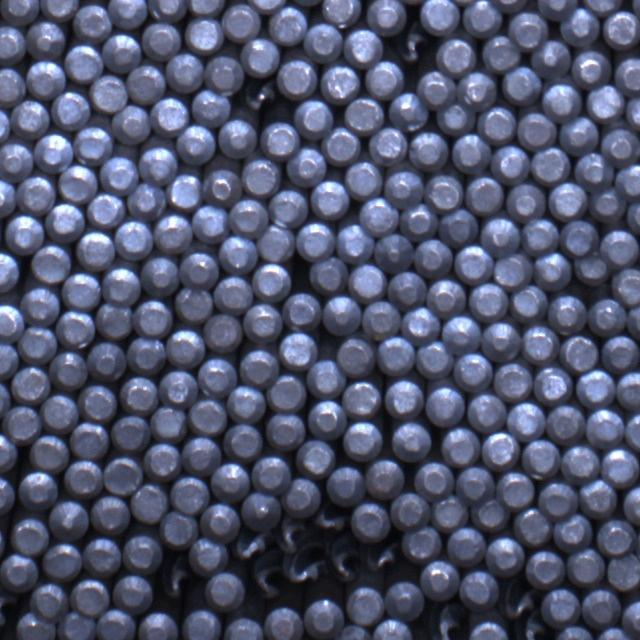tool: (582, 586, 622, 628), (507, 182, 548, 222), (342, 421, 382, 462), (33, 130, 72, 172), (304, 596, 343, 638), (410, 130, 450, 170), (126, 65, 166, 105), (508, 400, 548, 440), (228, 197, 268, 237), (482, 321, 522, 361), (427, 384, 467, 424), (296, 220, 336, 260), (548, 294, 588, 334), (524, 548, 564, 588), (540, 586, 580, 626), (278, 58, 318, 98), (542, 82, 582, 122), (26, 58, 66, 98), (442, 427, 482, 467), (5, 214, 45, 254), (490, 145, 530, 185), (204, 54, 244, 94), (349, 501, 389, 541), (138, 146, 178, 186), (150, 95, 190, 135), (74, 124, 114, 164), (295, 98, 335, 138), (122, 534, 162, 574), (446, 527, 486, 567), (218, 118, 258, 158), (267, 188, 307, 228), (459, 570, 499, 610), (393, 422, 433, 462), (30, 244, 70, 284), (322, 62, 362, 102), (428, 278, 468, 318), (310, 178, 350, 218), (384, 167, 424, 207), (182, 436, 222, 476), (480, 216, 520, 256), (112, 574, 152, 614), (25, 20, 65, 60), (90, 496, 130, 536), (252, 453, 292, 493), (285, 147, 325, 187), (386, 578, 426, 618), (242, 302, 282, 342), (76, 230, 115, 270), (115, 220, 154, 260), (11, 99, 50, 139), (52, 90, 91, 130), (324, 294, 363, 334), (344, 27, 384, 66), (420, 560, 459, 600), (223, 3, 262, 43), (585, 407, 624, 447), (559, 117, 599, 156), (442, 314, 482, 353), (17, 174, 56, 214), (268, 7, 308, 46), (580, 478, 619, 518), (451, 134, 490, 174), (103, 456, 142, 496), (547, 404, 586, 444), (254, 262, 293, 302), (454, 245, 493, 285), (112, 105, 152, 144), (548, 181, 588, 220), (437, 36, 477, 75), (577, 368, 617, 407), (374, 232, 414, 271), (166, 328, 205, 368), (390, 493, 430, 532), (46, 200, 85, 240), (212, 462, 251, 502), (21, 286, 60, 326), (51, 500, 90, 540), (388, 92, 428, 131), (328, 465, 366, 506), (241, 157, 280, 196), (469, 393, 508, 432), (197, 356, 236, 395), (568, 547, 607, 586), (261, 120, 300, 159), (213, 275, 252, 314), (170, 476, 210, 514), (58, 164, 98, 202), (360, 196, 400, 234), (102, 34, 140, 74), (165, 52, 203, 92), (470, 282, 510, 320), (366, 459, 404, 499), (478, 105, 518, 143), (205, 570, 245, 608), (241, 38, 279, 78), (504, 66, 544, 104), (601, 446, 639, 486), (509, 10, 549, 48), (70, 578, 110, 616), (344, 96, 384, 134), (378, 335, 416, 375), (84, 536, 122, 576), (336, 223, 374, 263), (154, 213, 192, 253), (88, 341, 126, 381), (305, 22, 343, 62), (414, 239, 452, 279), (486, 536, 524, 576), (522, 438, 560, 478), (482, 430, 520, 470), (44, 542, 84, 580), (522, 325, 560, 365), (538, 479, 578, 517), (560, 8, 600, 46), (365, 60, 405, 98), (456, 350, 494, 390), (517, 112, 557, 150), (130, 482, 168, 522), (384, 379, 422, 419), (308, 399, 346, 439), (560, 444, 600, 482), (572, 51, 612, 89), (440, 207, 480, 245), (220, 234, 258, 274), (416, 460, 456, 498), (178, 124, 216, 164), (459, 70, 499, 108), (178, 251, 218, 289), (141, 256, 179, 296), (284, 478, 322, 518), (575, 152, 615, 190), (126, 183, 166, 221), (336, 337, 376, 375), (266, 374, 306, 412), (530, 39, 570, 77), (11, 366, 50, 404), (496, 362, 534, 401), (192, 203, 230, 242), (467, 174, 505, 213), (521, 218, 560, 256), (100, 156, 138, 195), (514, 507, 553, 545), (536, 363, 574, 402), (191, 89, 230, 127), (101, 266, 140, 304), (346, 584, 384, 623), (369, 126, 408, 164), (42, 393, 80, 432), (239, 348, 278, 386), (20, 471, 58, 510), (201, 502, 239, 541), (586, 85, 624, 124), (307, 359, 345, 398), (0, 552, 37, 592), (598, 517, 638, 554), (266, 413, 306, 450), (402, 524, 442, 561), (202, 167, 242, 204), (362, 300, 400, 338), (426, 174, 464, 212), (590, 298, 628, 336), (496, 252, 534, 290), (561, 334, 599, 372), (134, 300, 172, 338), (2, 405, 40, 443), (498, 470, 536, 508), (64, 44, 102, 82), (184, 16, 222, 54), (534, 252, 572, 290), (159, 370, 197, 408), (350, 264, 388, 302), (432, 494, 470, 532), (402, 306, 440, 344), (554, 512, 592, 550), (120, 376, 158, 414), (57, 311, 95, 349), (64, 271, 102, 309), (75, 2, 113, 40), (419, 70, 457, 108), (601, 128, 639, 166), (282, 290, 320, 328), (90, 74, 128, 112), (296, 440, 334, 478), (602, 230, 640, 268), (324, 126, 362, 164), (32, 582, 70, 620), (228, 384, 266, 422), (345, 161, 383, 199), (18, 325, 56, 363), (204, 312, 242, 350), (128, 336, 166, 374), (143, 22, 182, 59), (530, 146, 570, 182), (463, 0, 503, 36), (12, 515, 49, 553), (402, 202, 439, 240), (603, 334, 640, 372), (278, 332, 316, 369), (64, 458, 102, 495), (391, 270, 428, 308), (416, 341, 454, 378), (176, 285, 213, 323), (258, 224, 296, 261), (70, 422, 108, 459), (510, 283, 548, 320), (95, 300, 132, 338), (456, 466, 495, 502), (52, 351, 88, 390), (263, 605, 303, 640), (604, 10, 640, 48), (30, 436, 68, 472), (482, 34, 520, 70), (160, 512, 198, 548), (343, 379, 381, 415), (560, 218, 598, 254), (188, 398, 226, 434), (145, 442, 181, 480), (111, 414, 149, 450), (312, 258, 350, 294), (245, 492, 283, 528), (190, 538, 228, 574), (588, 184, 626, 220), (420, 0, 460, 34), (368, 0, 408, 34), (80, 383, 116, 420), (0, 140, 33, 180), (166, 173, 202, 209), (88, 192, 124, 228), (226, 422, 262, 458), (152, 405, 188, 441), (472, 496, 510, 530), (574, 250, 612, 284), (438, 101, 477, 134), (183, 608, 223, 640), (94, 608, 133, 640), (136, 610, 177, 640), (608, 552, 640, 590), (16, 611, 56, 640), (55, 611, 94, 640), (108, 0, 148, 28), (612, 267, 640, 305), (322, 0, 363, 25), (0, 24, 26, 62), (0, 68, 24, 107), (1, 0, 40, 24), (0, 303, 24, 342), (617, 370, 640, 410), (616, 55, 640, 93), (226, 616, 264, 640), (372, 617, 411, 640), (616, 162, 640, 198), (0, 251, 20, 293), (470, 620, 510, 640), (536, 0, 577, 19), (621, 597, 640, 638), (147, 0, 186, 19), (41, 0, 81, 18), (0, 433, 18, 471), (624, 482, 640, 524), (0, 342, 18, 378), (0, 176, 16, 215), (555, 625, 596, 640), (582, 0, 624, 14), (595, 626, 636, 640), (625, 414, 640, 452), (187, 0, 225, 14), (488, 0, 532, 12), (1, 474, 14, 514), (626, 94, 640, 130), (246, 0, 288, 12), (627, 301, 640, 339), (628, 197, 640, 236), (0, 104, 10, 143), (0, 379, 10, 417), (631, 0, 639, 17)
tool_b: (247, 552, 284, 602), (284, 542, 324, 586), (159, 556, 195, 602), (327, 538, 362, 584), (427, 603, 467, 640), (396, 26, 431, 64), (499, 584, 535, 620), (274, 517, 308, 553), (365, 540, 401, 574), (244, 79, 278, 113), (314, 504, 349, 536), (232, 532, 268, 563), (516, 616, 555, 640)
